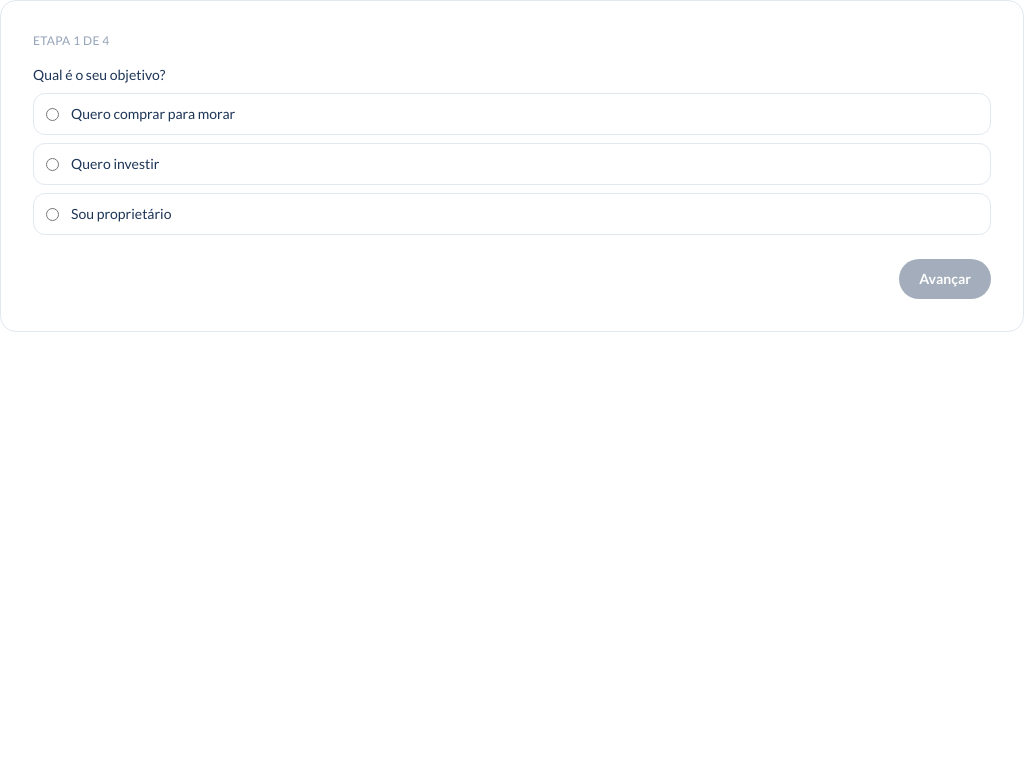
Scenario: LeadForm › goes back without losing the selection
Click the radio button labelled "Quero investir" at [52, 164], box [46,158,59,170]
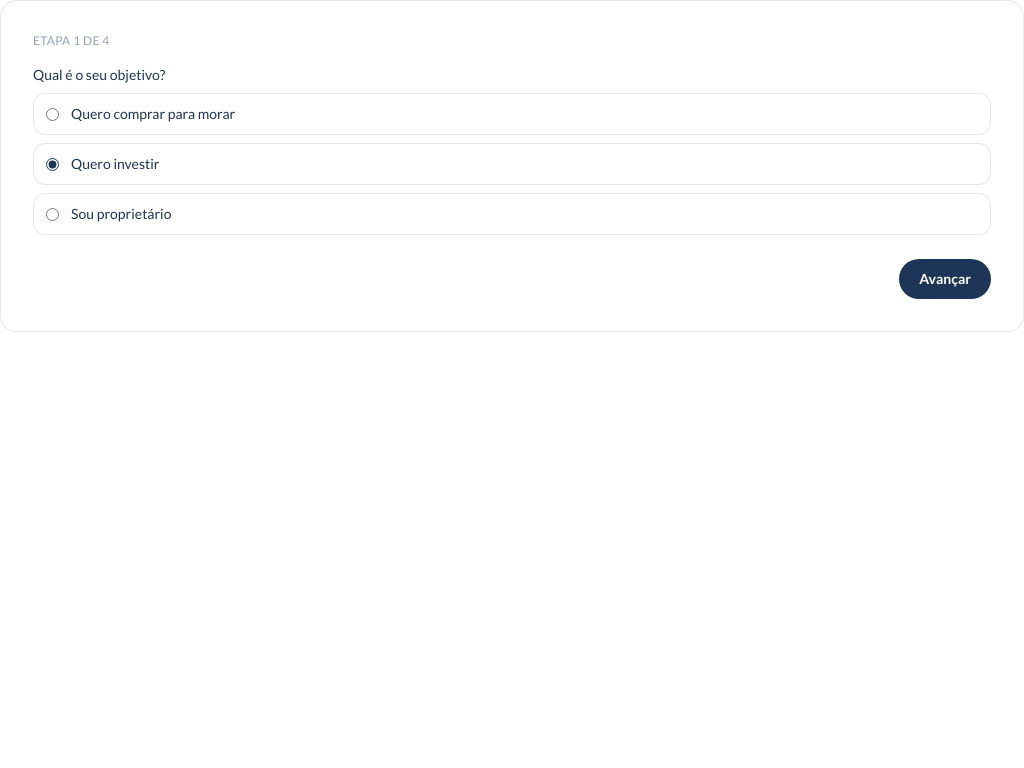
Click the button "Avançar" at [945, 279], box [899,259,991,299]
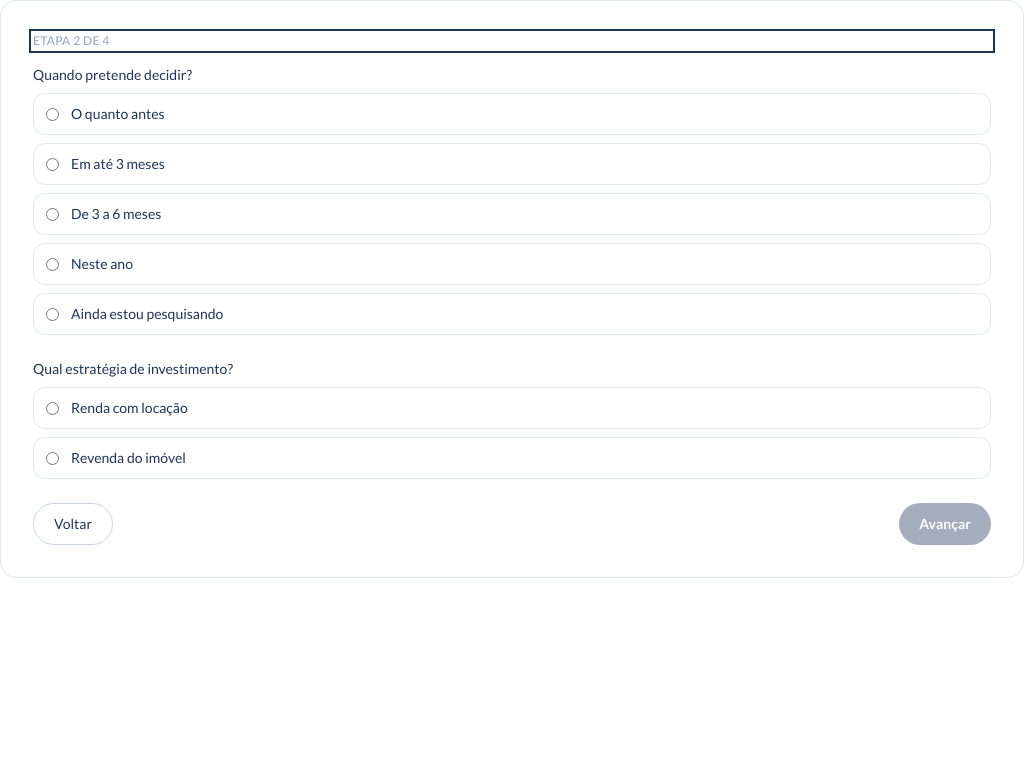
Now the text "Etapa 2 de 4" is shown, box [33,33,110,48]
Click the button "Voltar" at [73, 524], box [33,503,113,545]
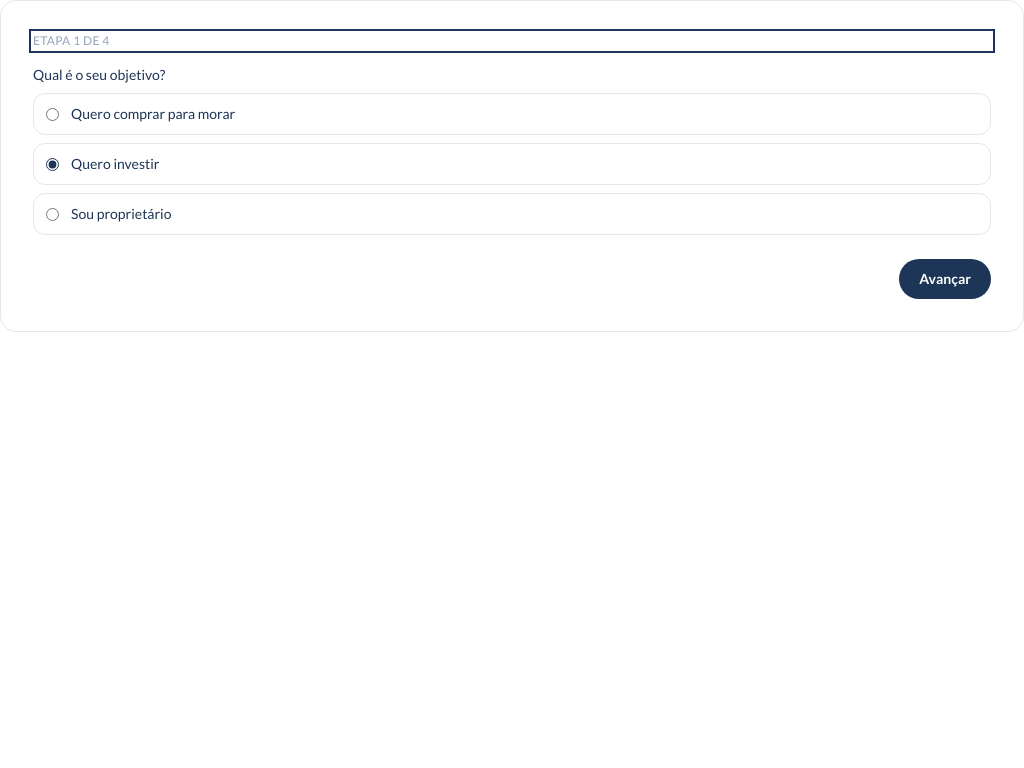
Now the text "Etapa 1 de 4" is shown, box [33,33,110,48]
Now the radio button labelled "Quero investir" is checked, box [46,158,59,170]
